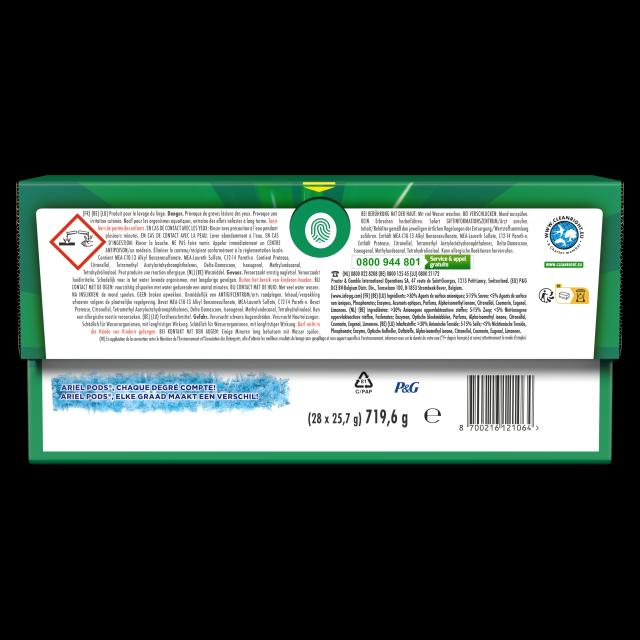GHS_Symbol_CORROSION: (49, 213, 106, 270)
